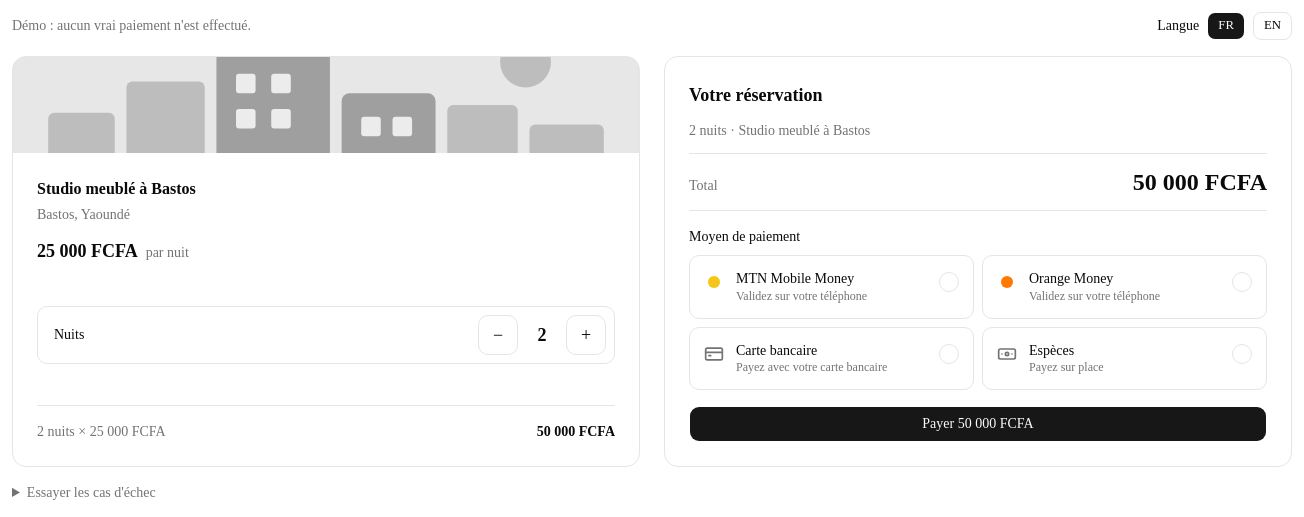
<BookingDemo /> language › switches back to French
Click the button "EN" at x=1272, y=26, box [1253,12,1292,40]
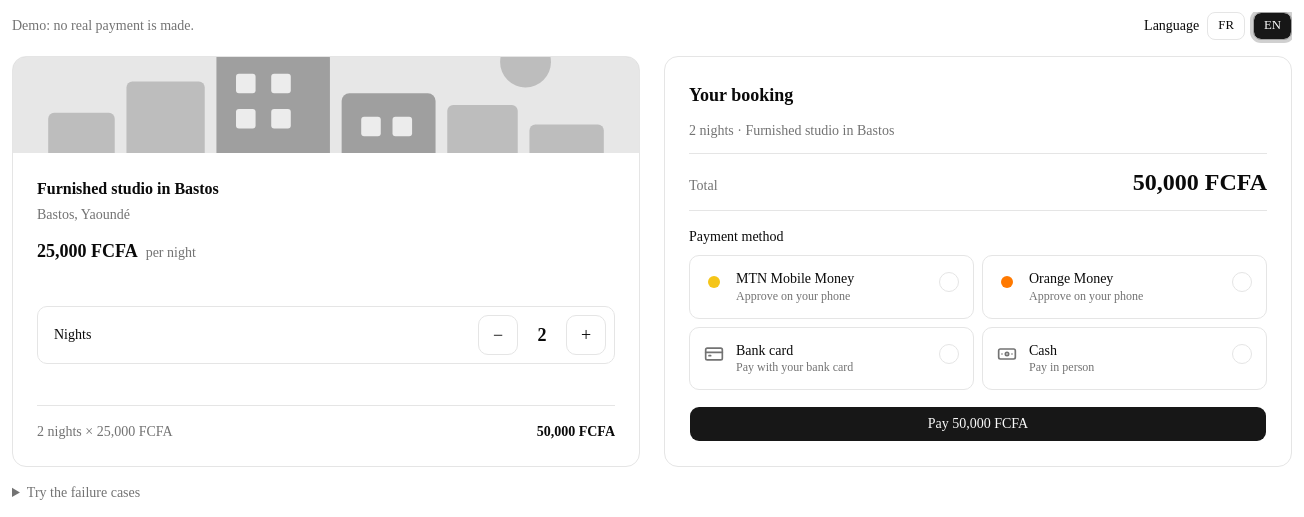
Click the button "FR" at x=1226, y=26, box [1207,12,1245,40]
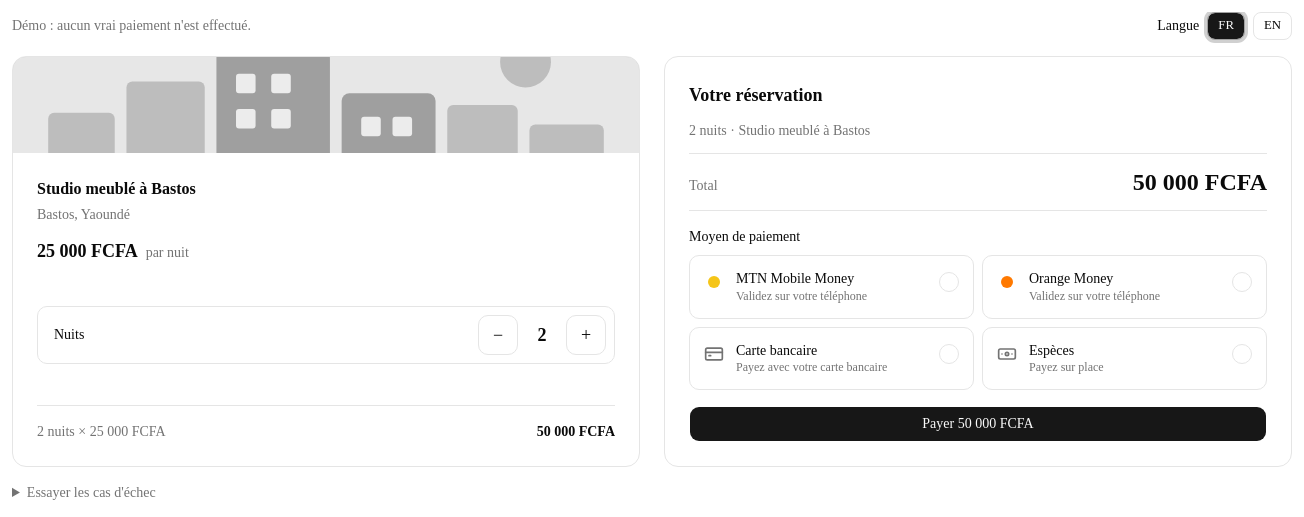
Check: the button "Payer 50 000 FCFA" is shown, box [689,406,1267,442]
